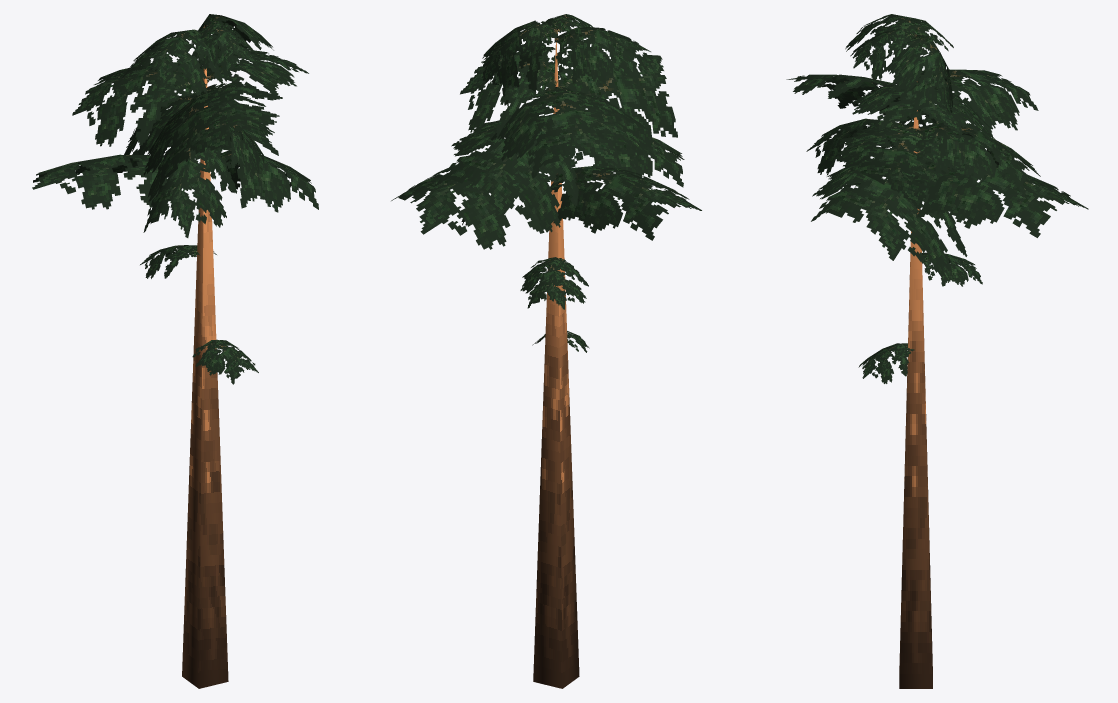
The model's file is pine_tree_3_13.dae.
3 renders of one model, left to right at view 1: azimuth 30°, elevation 25°; view 2: azimuth 150°, elevation 25°; view 3: azimuth 270°, elevation 25°, orthographic.
Parts seen in each view (by area): view 1: Cube; view 2: Cube; view 3: Cube.
Boxes of the visible parts, x1=… form: Cube: x1=32, y1=14, x2=318, y2=688; Cube: x1=391, y1=14, x2=701, y2=688; Cube: x1=786, y1=14, x2=1088, y2=688.
Bounding box in the file's own units: 0.3476 × 0.3528 × 0.7334.
2 materials, 2 textured.
